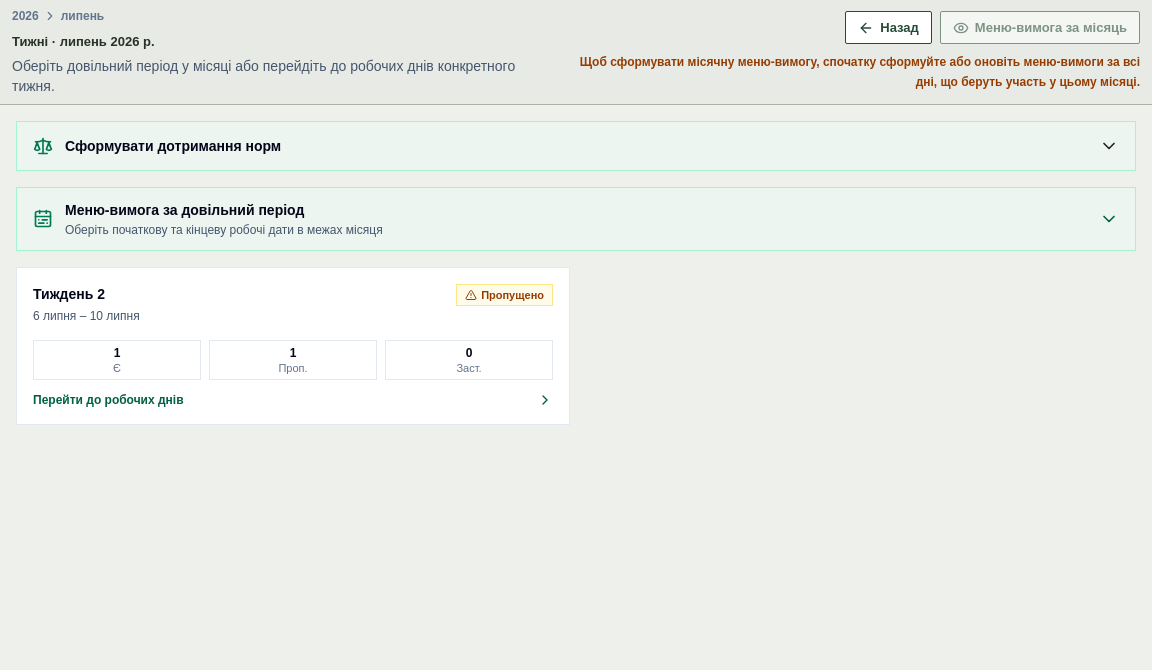
Test case: RequirementPeriodNavigator › offers day selection at month level and removes the weekly norm button
The image size is (1152, 670).
Step 1. Click the button "Сформувати дотримання норм" → (173, 146), box x1=17 y1=122 x2=1135 y2=170
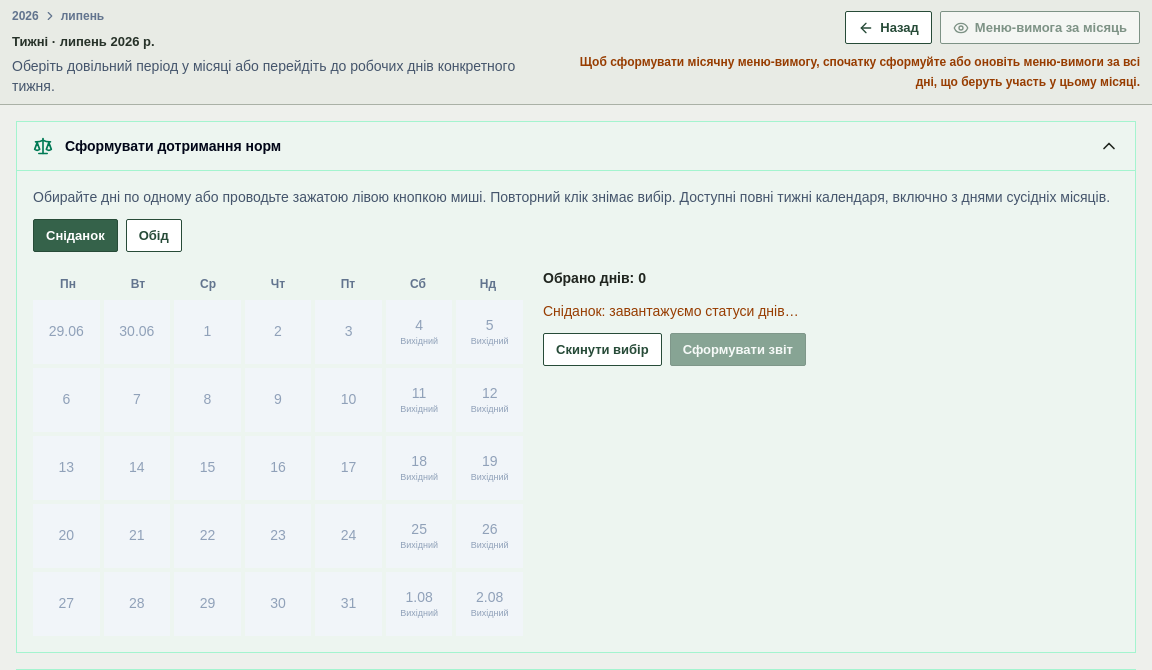
Expected: the button "Сформувати звіт" is disabled, x1=670 y1=332 x2=806 y2=366
